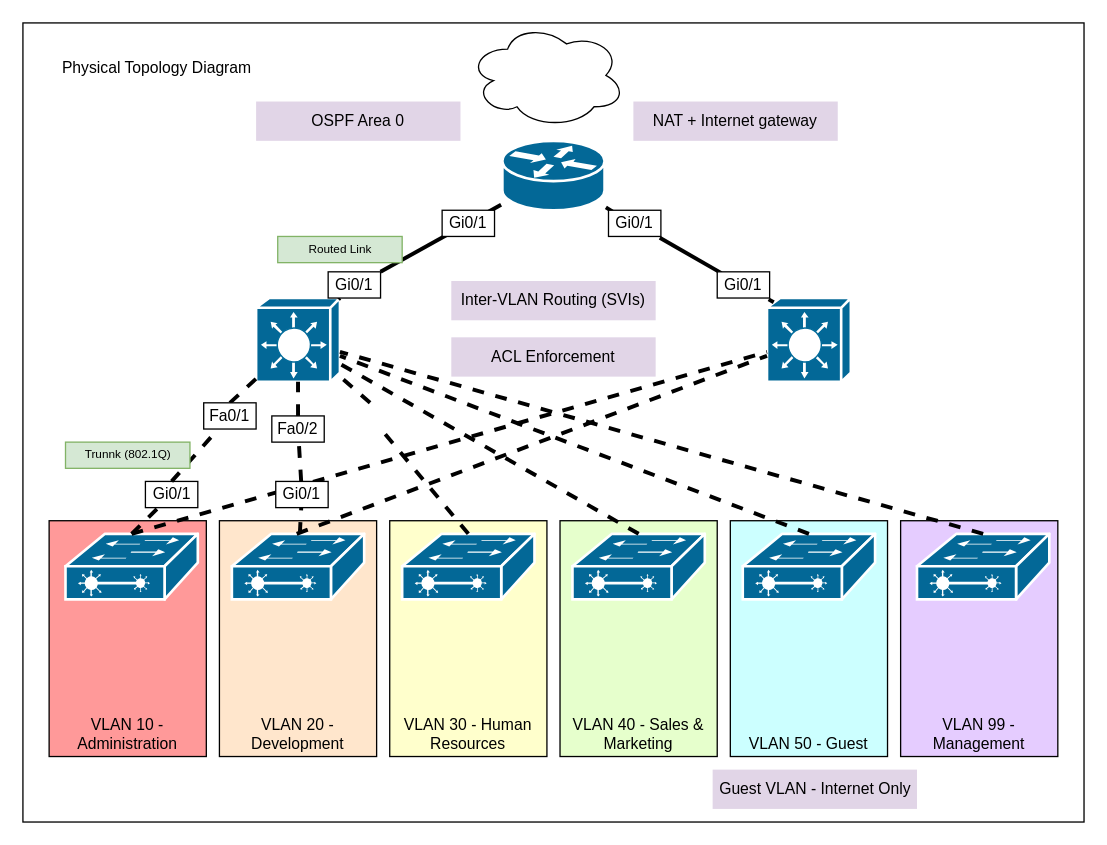
Image size: 1107x845. Some labels were removed from this diagram. Each missing label, with the centre of its shape:
"Access-SW-ADMIN" goes at point (131, 566).
"Access-SW-DEV" goes at point (297, 566).
"Access-SW-GUEST" goes at point (808, 566).
"Access-SW-HR" goes at point (467, 566).
"Access-SW-MGMT" goes at point (982, 566).
"Access-SW-SALES" goes at point (638, 566).
"Core Router" goes at point (552, 175).
"Dist-SW1" goes at point (297, 339).
"Dist-SW2" goes at point (808, 339).
"Internet" goes at point (546, 75).
